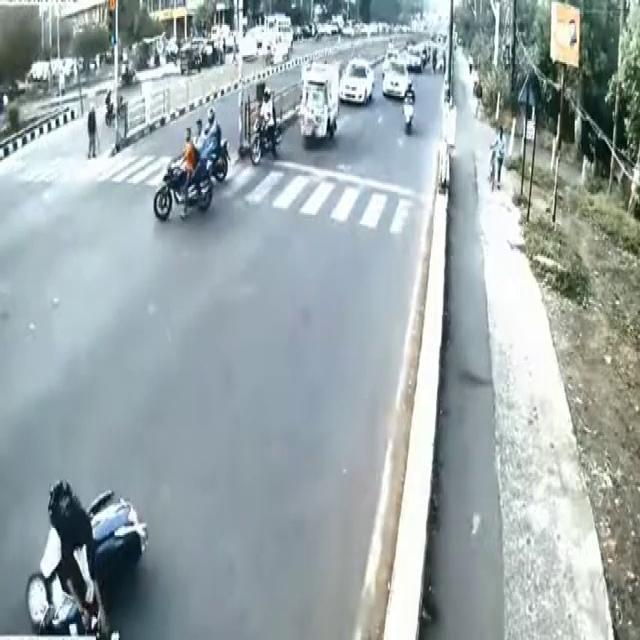accident: (1, 456, 156, 640)
